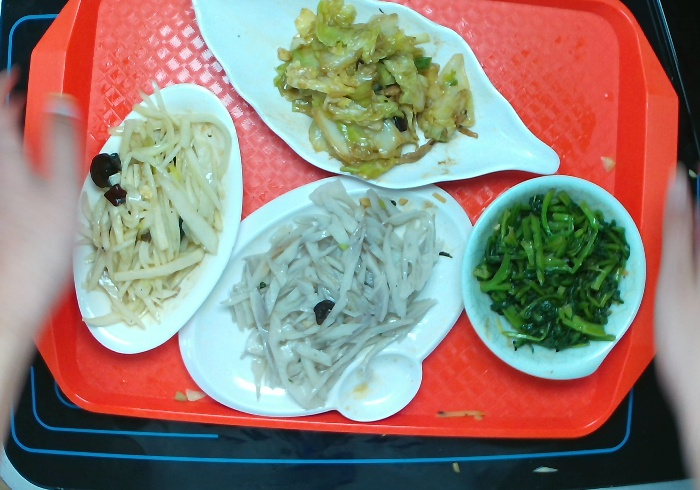RJxy-Bai_Se_Tuo_Yuan: (67, 80, 248, 358)
RJxy-Shu_Ye_Pan: (185, 1, 568, 194)
RJxy-Xiao_Jiao_Yuan_Wan: (455, 170, 649, 384)
RJxy-Zhan_Liao_Pan: (174, 169, 482, 428)
